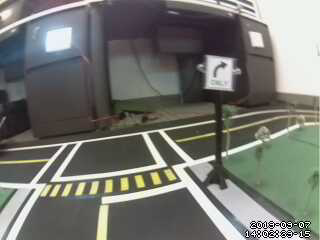Right_only_sign: (204, 54, 235, 92)
